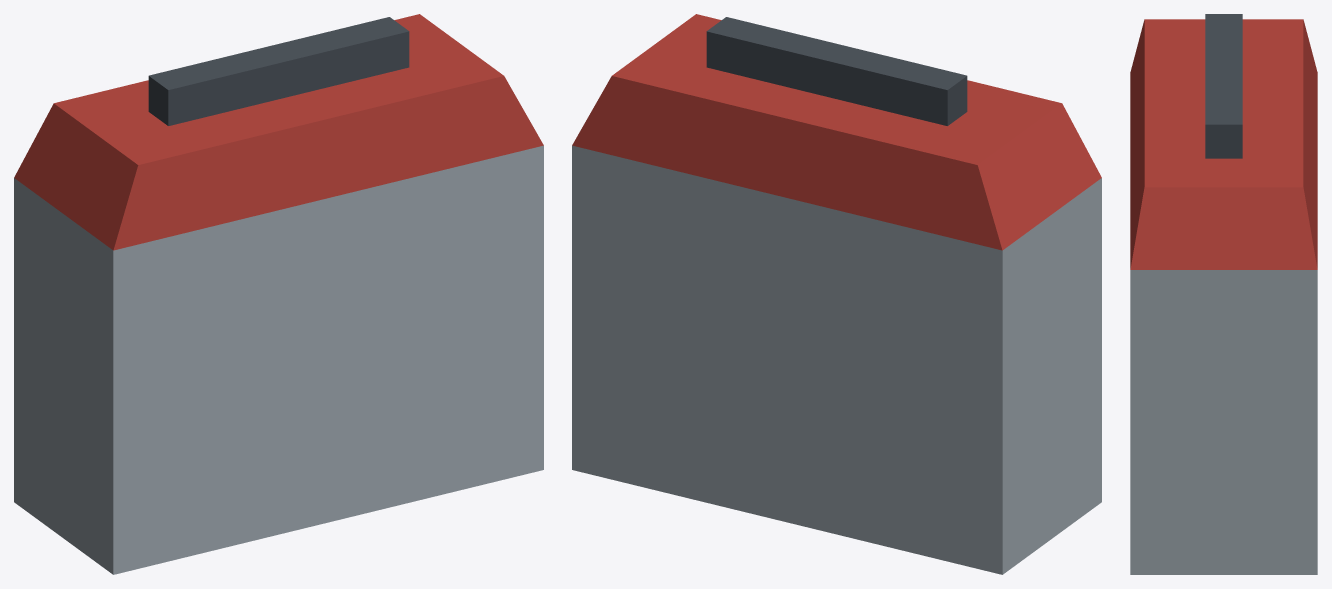
Rendered from GD_Lunchbox_01.glb.
3 renders of one model, left to right at view 1: azimuth 30°, elevation 25°; view 2: azimuth 150°, elevation 25°; view 3: azimuth 270°, elevation 25°, orthographic. The views are drawn at different scales.
Visible parts, largest first — view 1: GD_Lunchbox_01; view 2: GD_Lunchbox_01; view 3: GD_Lunchbox_01.
Boxes of the visible parts, x1,y1,x2,y2 form: GD_Lunchbox_01: [14, 14, 543, 574]; GD_Lunchbox_01: [572, 14, 1101, 574]; GD_Lunchbox_01: [1130, 14, 1317, 574].
Size of the model in its own units: 0.25 by 0.24 by 0.1.
Materials: 1 (1 with a texture image).
